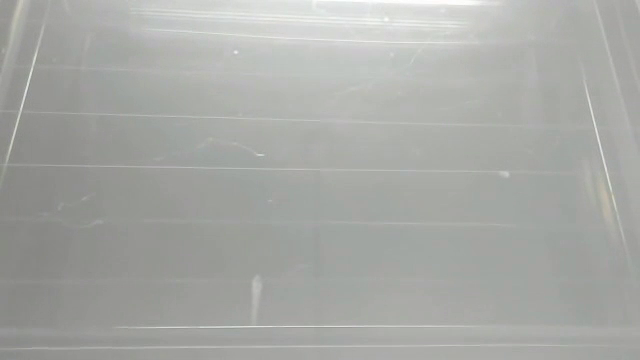alpha: (246, 270, 267, 334), (493, 165, 514, 182)
